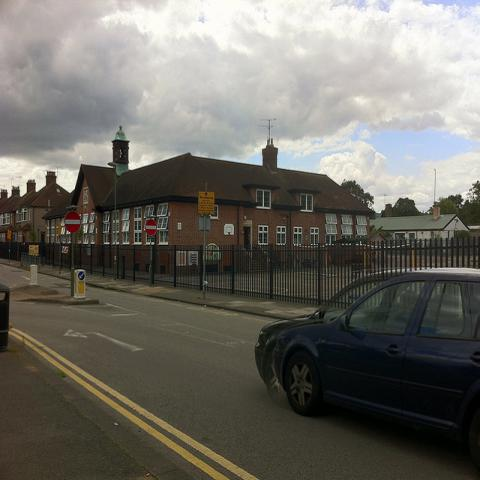car: (275, 281, 479, 465), (253, 265, 479, 407)
